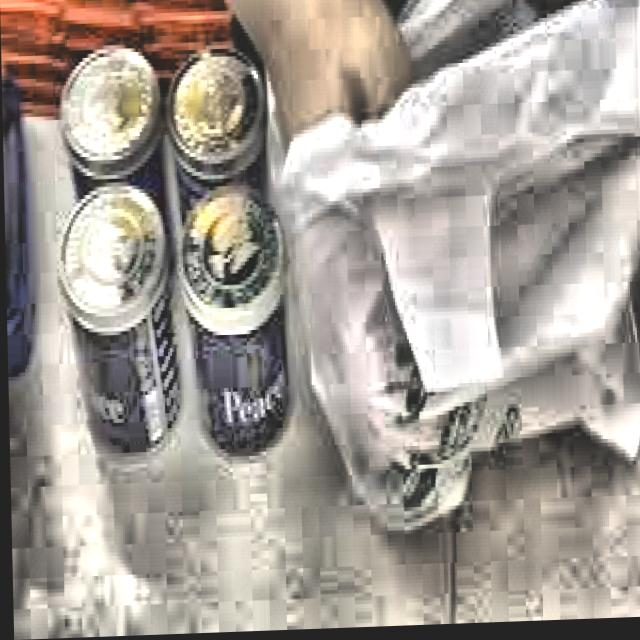can: (52, 176, 184, 474), (171, 183, 300, 469), (163, 24, 280, 239), (57, 42, 172, 237)
